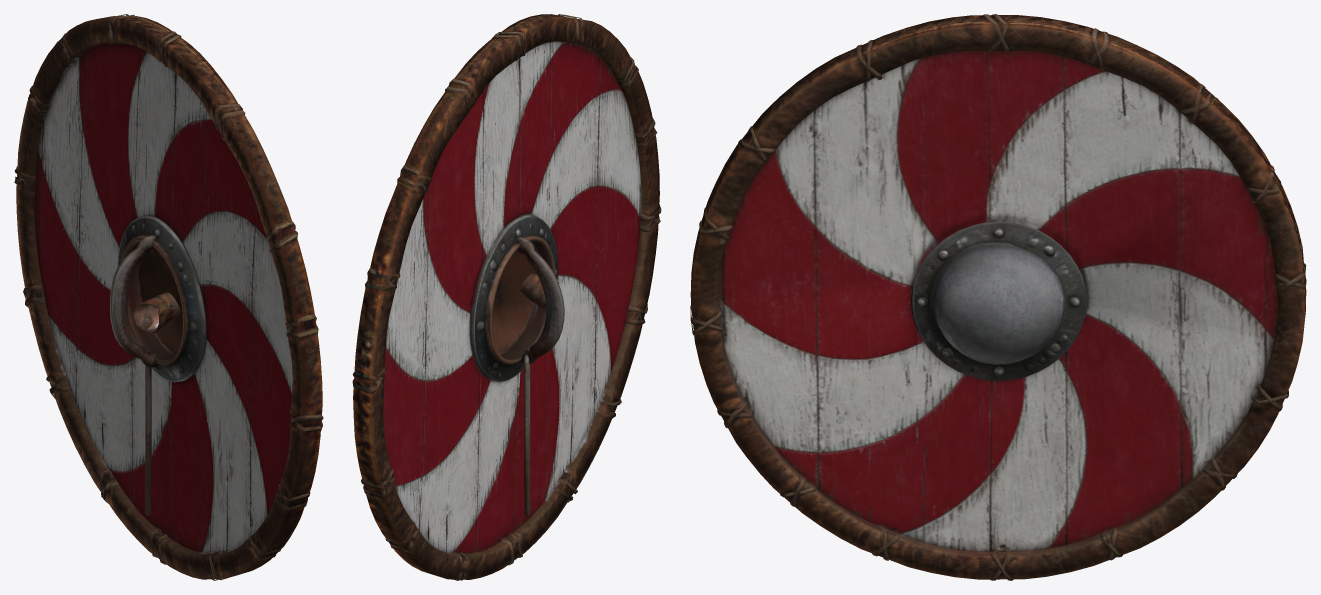
Rendered from SM_Env_HeorotRoundShield.fbx.
The picture shows the model from 3 angles, left to right: view 1: azimuth 30°, elevation 25°; view 2: azimuth 150°, elevation 25°; view 3: azimuth 270°, elevation 25°; orthographic projection. The views are drawn at different scales.
Parts seen in each view (by area): view 1: SM_Env_HeorotRoundShield; view 2: SM_Env_HeorotRoundShield; view 3: SM_Env_HeorotRoundShield.
Part boxes in pixels (<box>): SM_Env_HeorotRoundShield: <box>14,14,323,580</box>; SM_Env_HeorotRoundShield: <box>352,14,661,580</box>; SM_Env_HeorotRoundShield: <box>690,14,1306,580</box>.
Size of the model in its own units: 5.66 by 27 by 27.
Materials: 1 (1 with a texture image).
